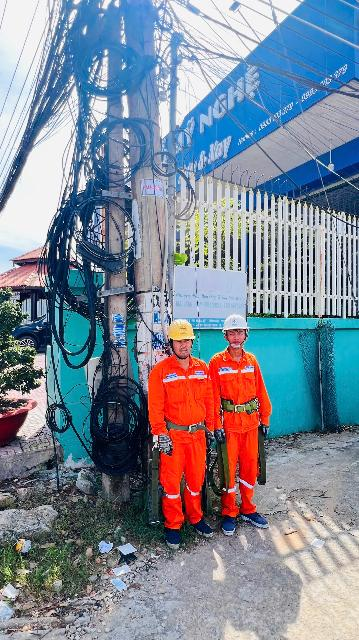gloves: (155, 433, 177, 455), (207, 430, 218, 455), (216, 425, 227, 445), (262, 422, 272, 441)
harness: (155, 416, 212, 436), (218, 394, 265, 415)
helmet: (161, 319, 200, 337), (222, 313, 253, 333)
shoes: (241, 502, 273, 531), (193, 514, 219, 541), (215, 511, 240, 537), (161, 525, 186, 550)
